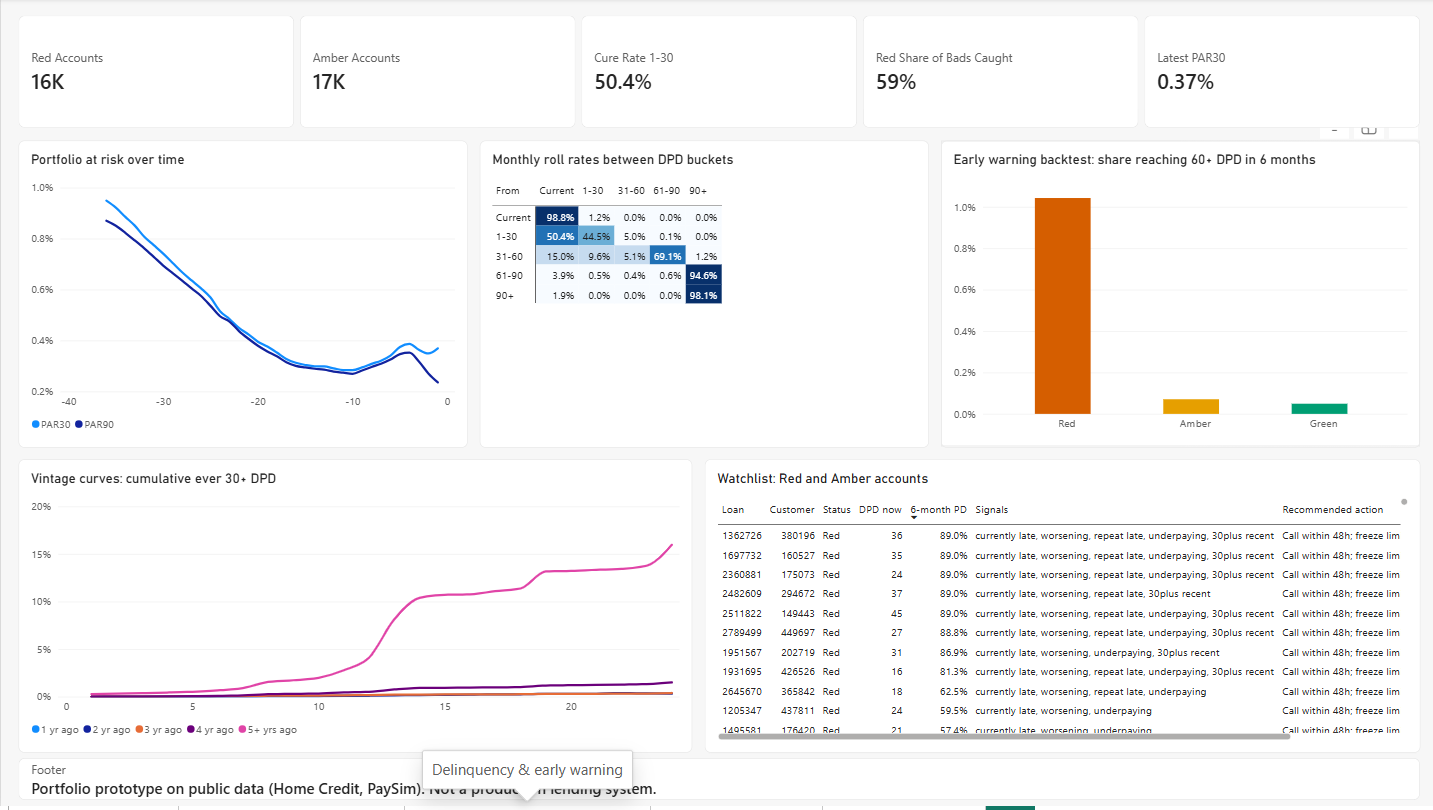

The dashboard page shown, as its layout file describes it:
{"tool":"powerbi","page":{"name":"Delinquency & early warning","canvas":[1920,1080],"ordinal":2},"visuals":[{"type":"lineChart","title":"Portfolio at risk over time","fields":{"Category":["delinquency_trend.MONTHS_BALANCE"],"Y":["Sum(delinquency_trend.PAR30)","Sum(delinquency_trend.PAR90)"]},"box":[24,190,600,410],"z":0},{"type":"pivotTable","title":"Monthly roll rates between DPD buckets","fields":{"Columns":["roll_rates.to_bucket"],"Rows":["roll_rates.from_bucket"],"Values":["Sum(roll_rates.roll_rate)"]},"box":[640,190,600,410],"z":1},{"type":"lineChart","title":"Vintage curves: cumulative ever 30+ DPD","fields":{"Category":["vintage_curves.MOB"],"Series":["vintage_curves.COHORT"],"Y":["Sum(vintage_curves.ever30_rate)"]},"box":[24,616,900,392],"z":2},{"type":"clusteredColumnChart","title":"Early warning backtest: share reaching 60+ DPD in 6 months","fields":{"Category":["ews_backtest.RAG"],"Y":["Sum(ews_backtest.hit_rate)"]},"box":[1256,190,640,410],"z":3},{"type":"tableEx","title":"Watchlist: Red and Amber accounts","fields":{"Values":["ews_watchlist.SK_ID_PREV","ews_watchlist.SK_ID_CURR","ews_watchlist.RAG","ews_watchlist.dpd_now","ews_watchlist.behaviour_pd_6m","ews_watchlist.signals_triggered","ews_watchlist.recommended_action"]},"box":[940,616,956,392],"z":4},{"type":"cardVisual","fields":{"Data":["_Measures.Footer"]},"box":[24,1016,1872,56],"z":5},{"type":"cardVisual","fields":{"Data":["_Measures.Red Accounts","_Measures.Amber Accounts","_Measures.Cure Rate 1-30","_Measures.Red Share of Bads Caught","_Measures.Latest PAR30"]},"box":[24,24,1872,150],"z":6}]}

Visuals, with their boxes on the page's 1920x1080 design canvas (x1, y1, x2, y2). These are canvas units, not pixel positions in the 1433x810 screenshot, which may show the page scaled, cropped or inside an application window:
"Portfolio at risk over time" lineChart: left=24, top=190, right=624, bottom=600
"Monthly roll rates between DPD buckets" pivotTable: left=640, top=190, right=1240, bottom=600
"Vintage curves: cumulative ever 30+ DPD" lineChart: left=24, top=616, right=924, bottom=1008
"Early warning backtest: share reaching 60+ DPD in 6 months" clusteredColumnChart: left=1256, top=190, right=1896, bottom=600
"Watchlist: Red and Amber accounts" tableEx: left=940, top=616, right=1896, bottom=1008
cardVisual - _Measures.Footer: left=24, top=1016, right=1896, bottom=1072
cardVisual - _Measures.Red Accounts x _Measures.Amber Accounts: left=24, top=24, right=1896, bottom=174
